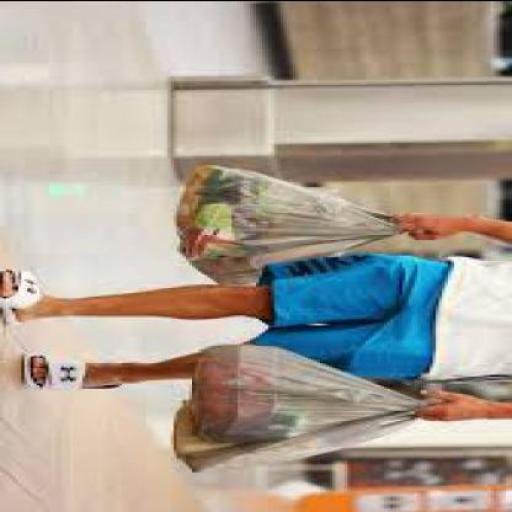plastic: (180, 166, 408, 286), (192, 342, 433, 444), (174, 398, 424, 472)
